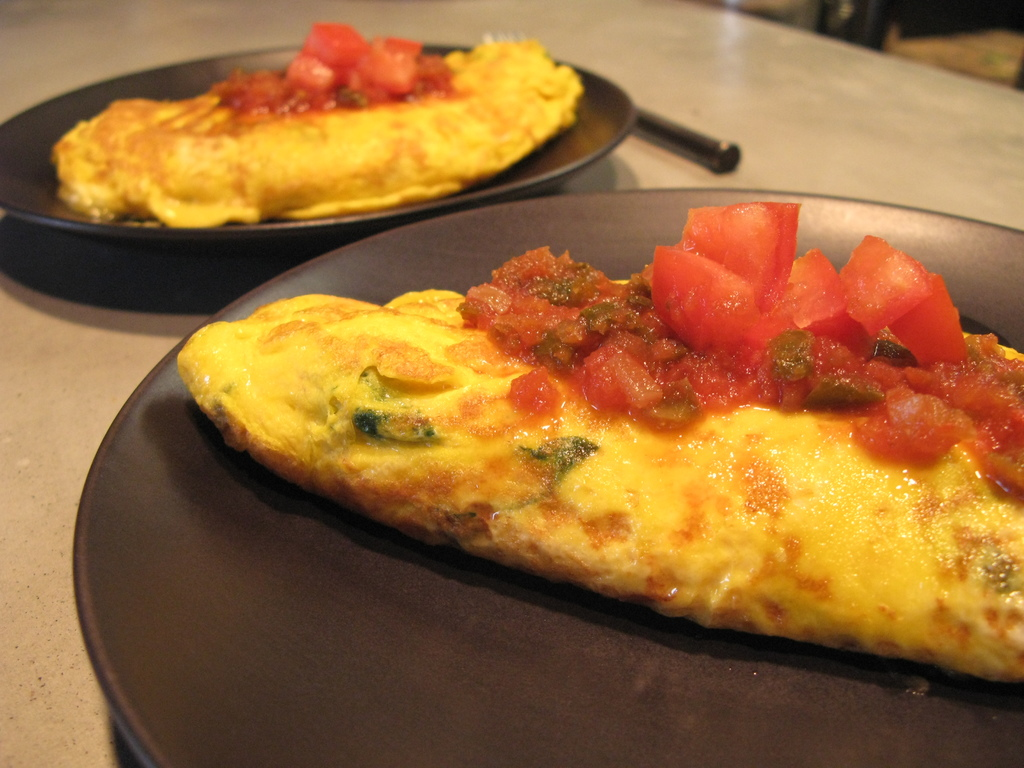Tomato: (642, 241, 757, 353), (837, 234, 930, 334), (784, 245, 875, 346), (895, 269, 974, 370), (305, 23, 366, 79)
